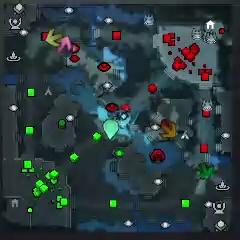p2: (103, 119, 120, 141)
x1: (55, 36, 71, 54)
x2: (46, 29, 63, 46)
x3: (116, 112, 132, 128)
x4: (197, 161, 214, 180)
x5: (161, 121, 176, 139)
